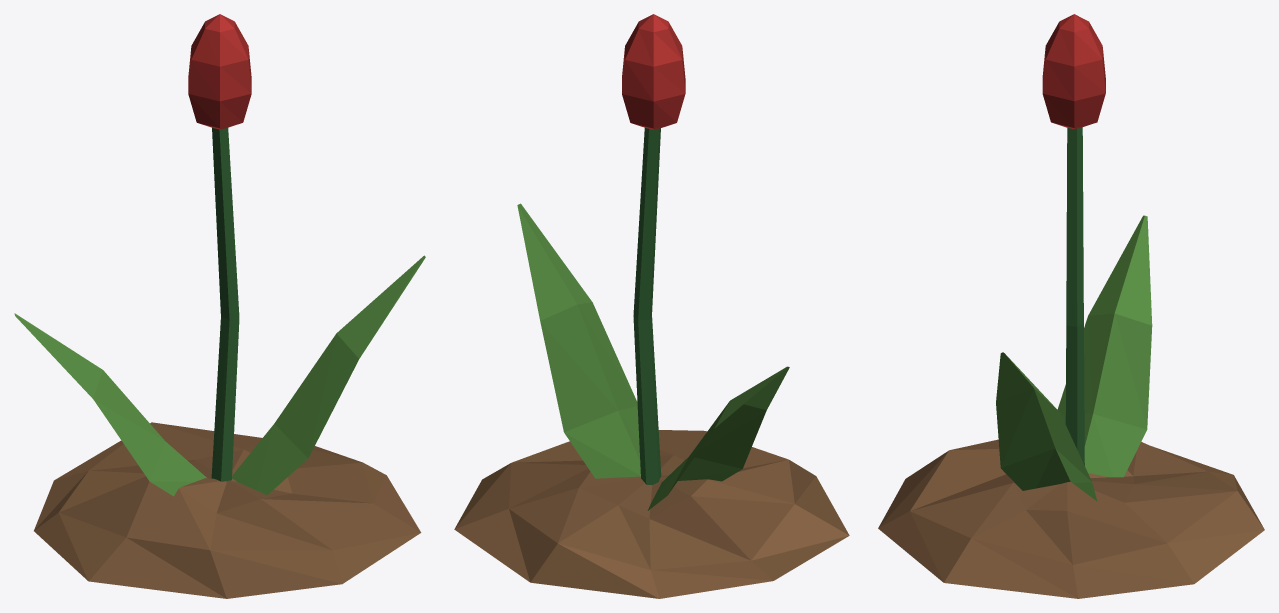
Rendered from ZB_cicek_lale_a2.glb.
3 views of the same model, side by side, from view 1: azimuth 30°, elevation 25°; view 2: azimuth 150°, elevation 25°; view 3: azimuth 270°, elevation 25° (orthographic).
Parts seen in each view (by area): view 1: ZB_cicek_lale_a2; view 2: ZB_cicek_lale_a2; view 3: ZB_cicek_lale_a2.
Part boxes in pixels (x1,y1,x2,y2): ZB_cicek_lale_a2: (14,14,425,598); ZB_cicek_lale_a2: (454,14,849,598); ZB_cicek_lale_a2: (878,14,1264,598).
Bounding box in the file's own units: 0.3221 × 0.4555 × 0.3174.
